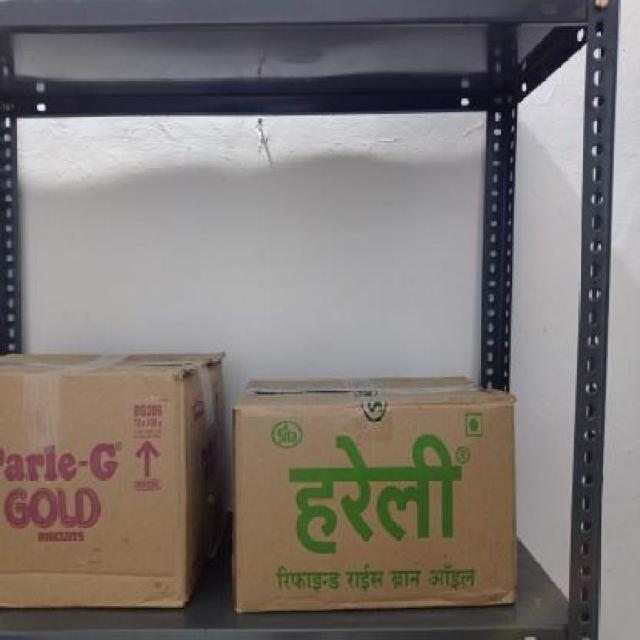box: (230, 406, 518, 605), (0, 374, 183, 610)
